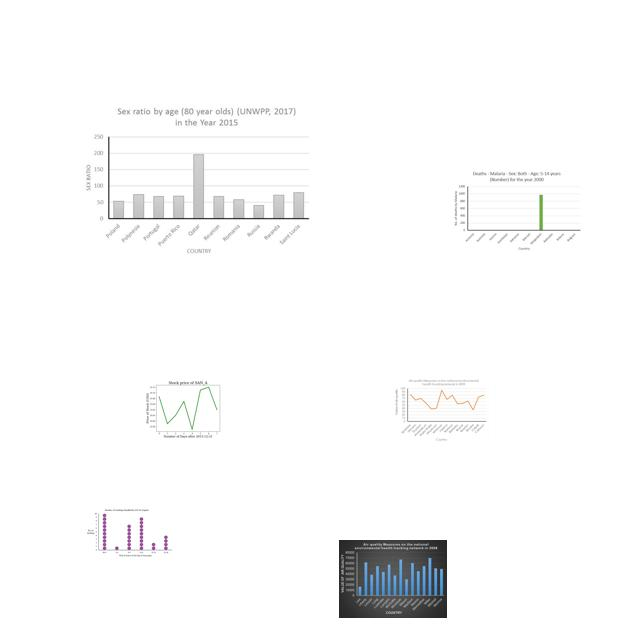Graph: (79, 104, 314, 258), (451, 170, 583, 253), (339, 540, 447, 618), (394, 377, 489, 443), (146, 377, 228, 439), (84, 507, 174, 559)
